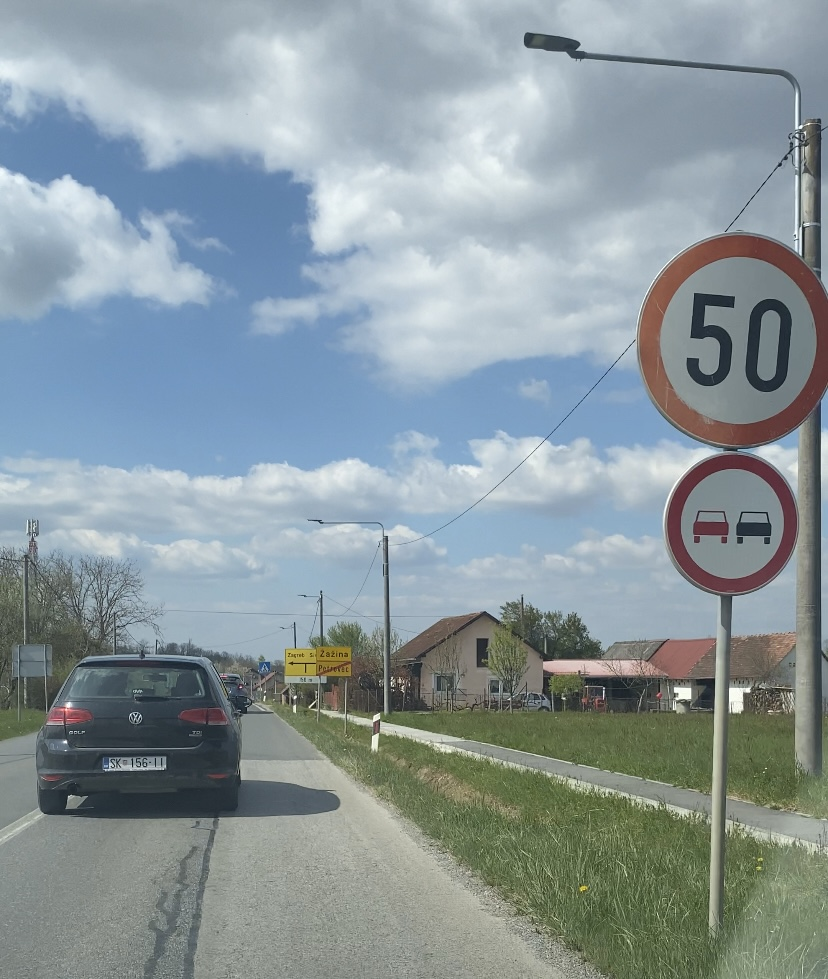Pješački prijelaz: (258, 662, 271, 674)
Zabrana pretjecanja: (663, 451, 801, 596)
